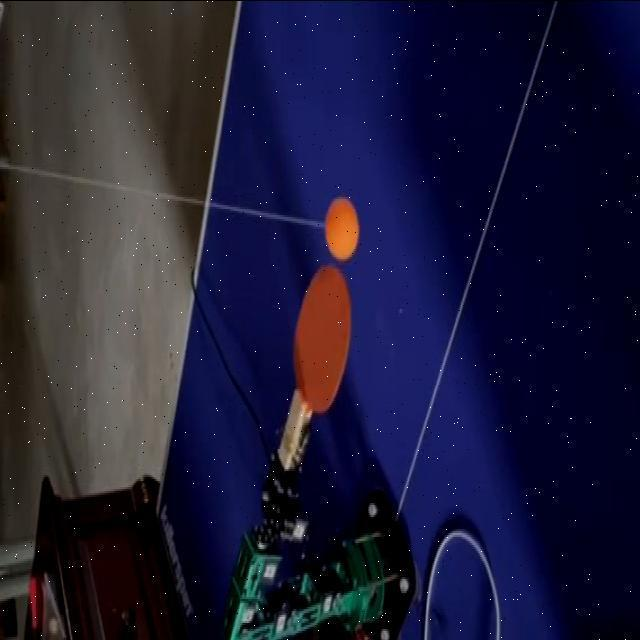ping-pong-ball: (324, 200, 359, 256)
